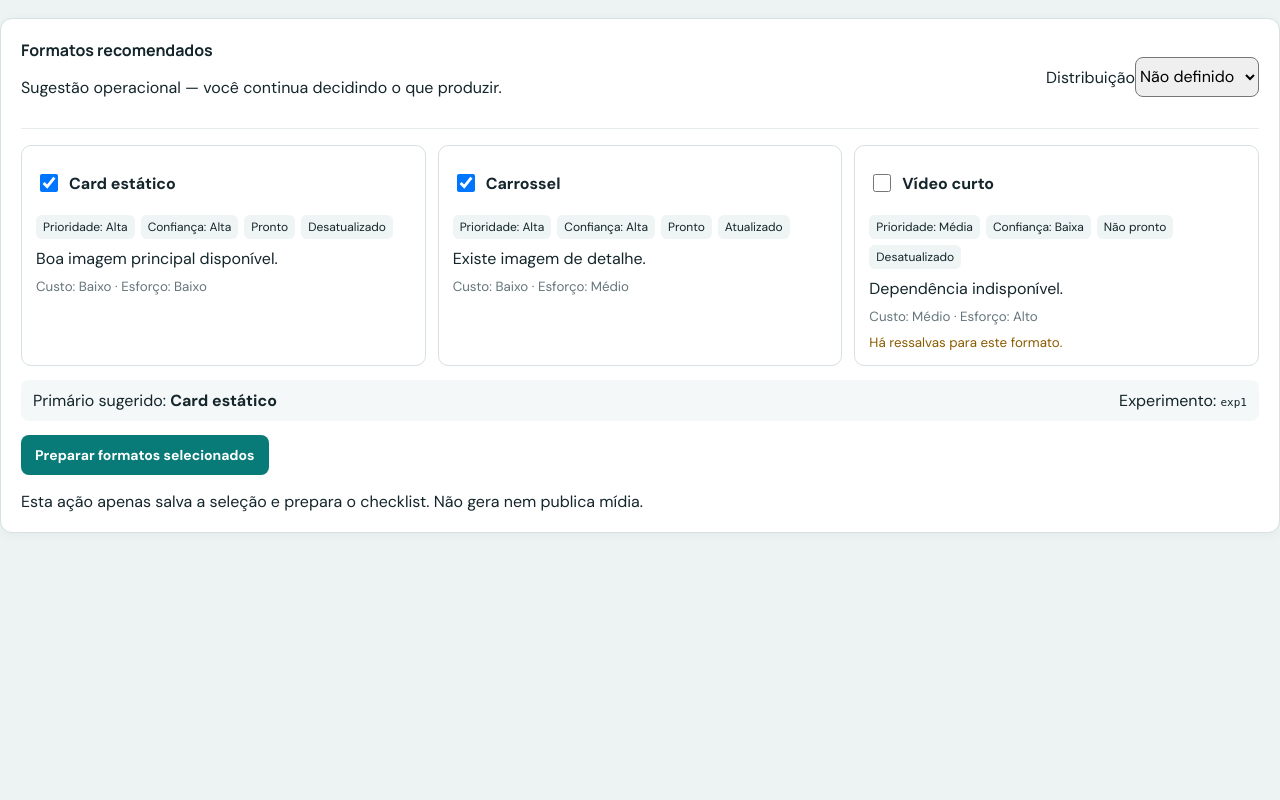
mostra recomendações, permite desmarcar e só prepara após confirmação
Expected: the text "Prioridade: Alta" is shown 2 times, [36, 215, 135, 239]; [453, 215, 551, 239]
Expected: the text "Não pronto" is shown, [1097, 215, 1173, 239]
Click the checkbox labelled "Card estático": (49, 183) [40, 163, 58, 203]
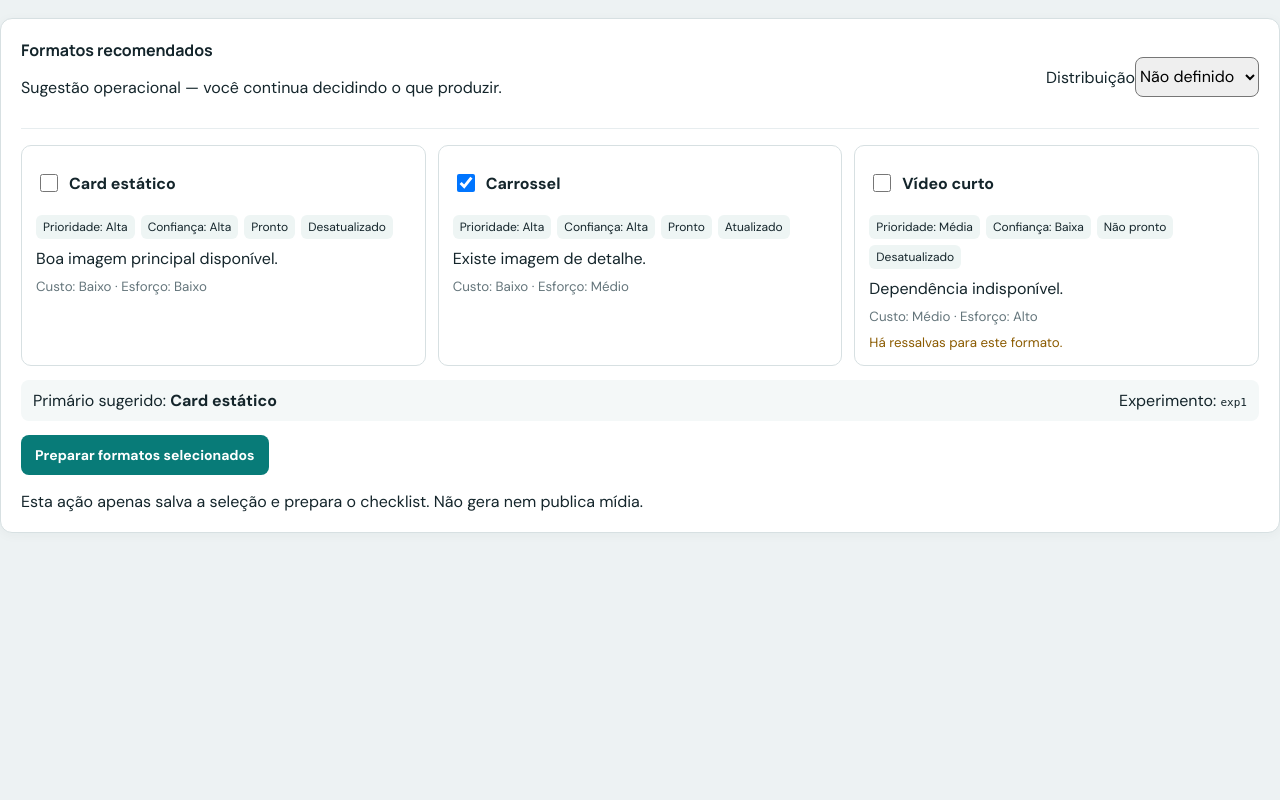
Click the button "Preparar formatos selecionados": (145, 455) [21, 435, 268, 475]
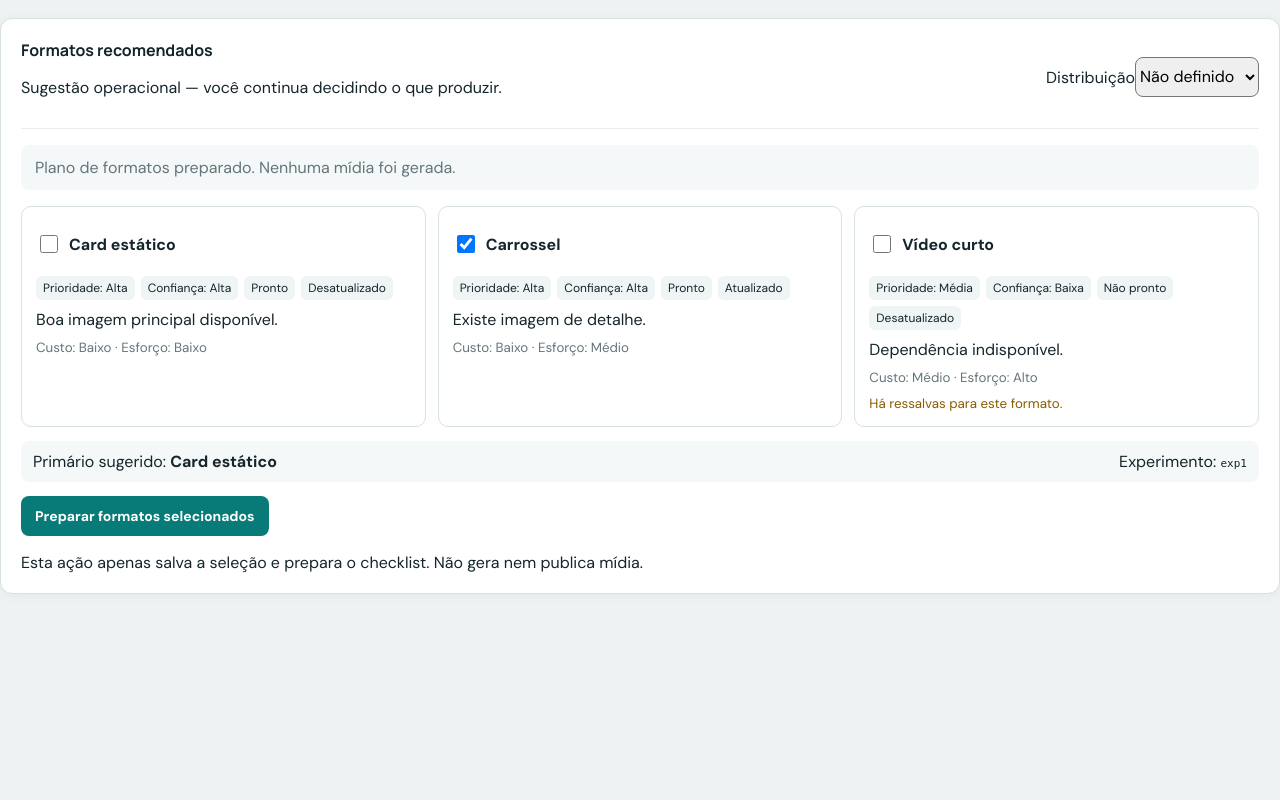
Expected: the text "Plano de formatos preparado. Nenhuma mídia foi gerada." is shown, [21, 145, 1259, 190]
